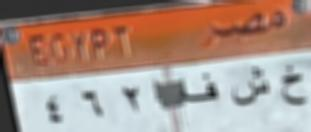2: (114, 80, 144, 112)
4: (39, 92, 66, 125)
6: (76, 87, 106, 121)
faa: (176, 72, 220, 107)
khaa: (278, 63, 310, 110)
sheen: (229, 67, 272, 111)
